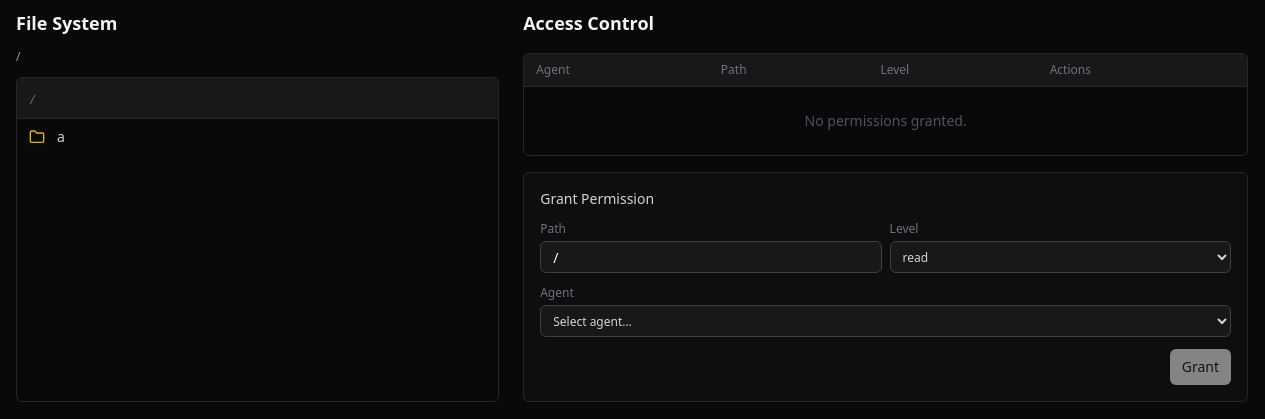
Scenario: FSBrowser navigation › clicking a breadcrumb segment navigates to that level
Click the text "a" at (61, 136), box [57, 127, 65, 146]
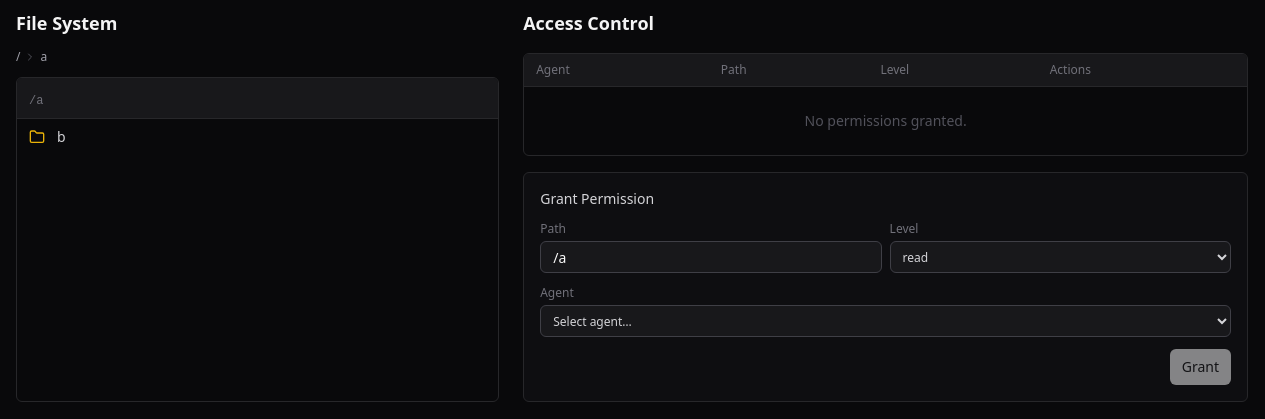
Click the text "b" at (61, 136), box [57, 127, 66, 146]
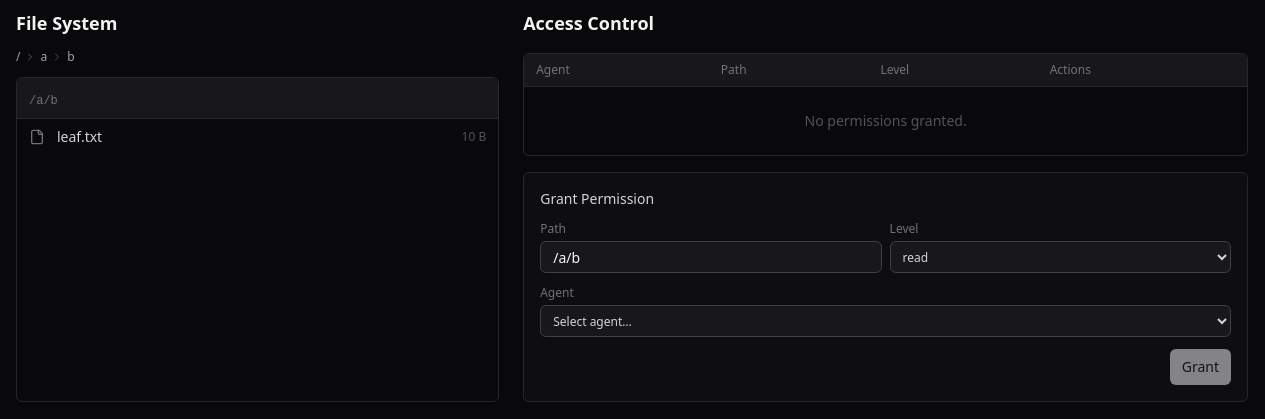
Expected: the text "leaf.txt" is shown, [57, 127, 102, 146]
Click breadcrumb "a" to go back to /a
Click the button "a" at (44, 57), box [40, 49, 47, 65]
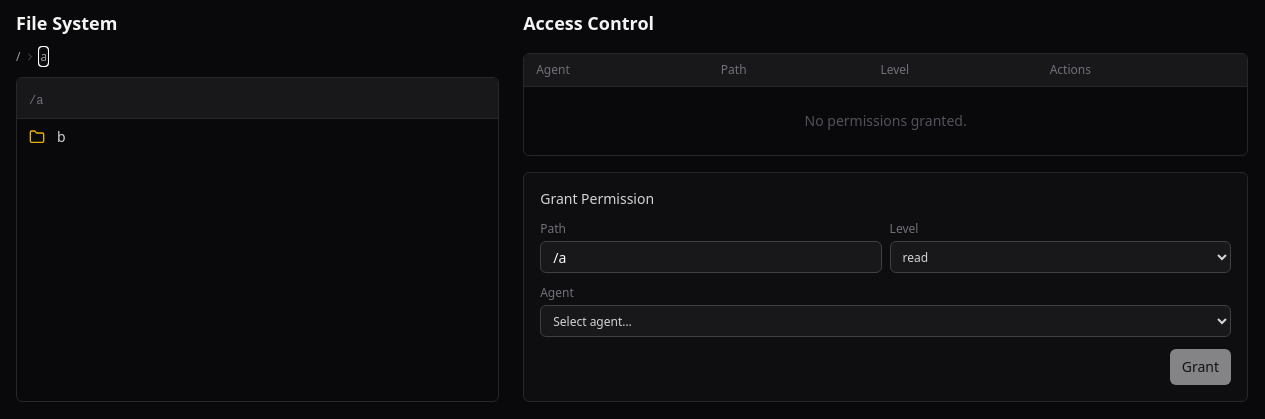
Expected: the text "b" is shown, [57, 127, 66, 146]
